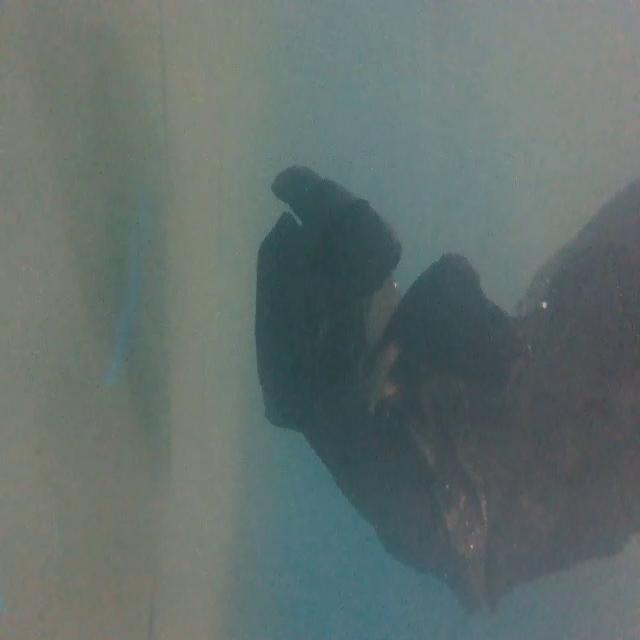plastic bags: (250, 164, 640, 620)
